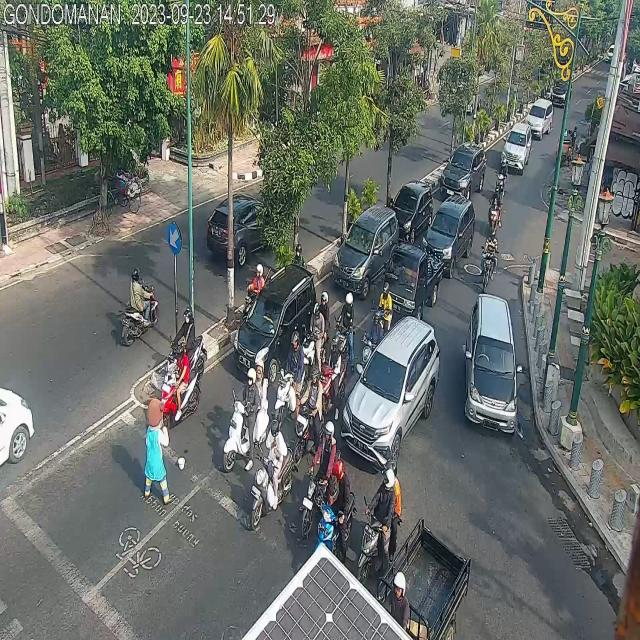car: (341, 314, 440, 470), (234, 266, 318, 386), (465, 292, 516, 435), (333, 204, 400, 299), (205, 195, 289, 266), (422, 192, 477, 279), (0, 381, 37, 470), (388, 179, 433, 240), (438, 142, 485, 199), (502, 120, 531, 174), (526, 100, 552, 138)
motorcycle: (220, 362, 270, 472), (357, 458, 401, 574), (300, 422, 342, 540), (251, 419, 293, 527), (318, 459, 356, 557), (119, 263, 160, 345), (161, 347, 200, 428), (273, 334, 305, 429), (293, 370, 325, 461), (169, 305, 206, 381), (302, 291, 330, 380), (333, 290, 359, 378), (321, 339, 346, 416), (482, 227, 499, 292), (372, 281, 393, 327), (486, 184, 501, 235)
